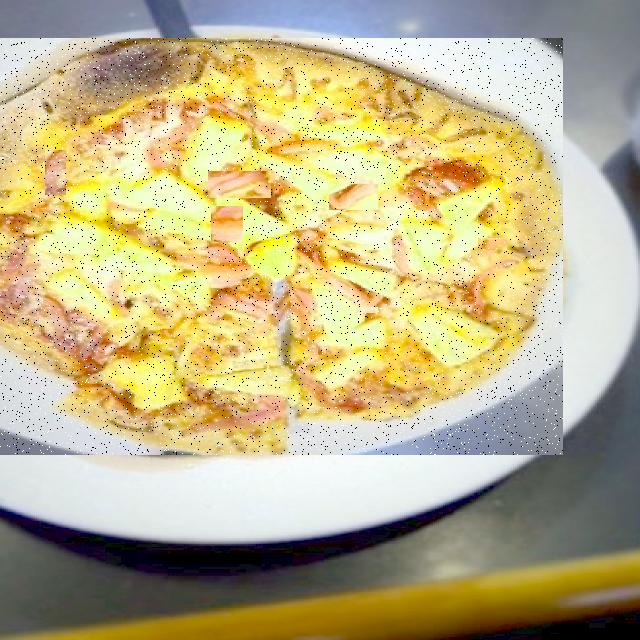Ham: (208, 171, 271, 198), (330, 184, 380, 210), (211, 206, 243, 242), (45, 150, 66, 195), (392, 210, 412, 254), (248, 69, 280, 94), (478, 238, 507, 250), (352, 307, 378, 313)
Pizza: (0, 38, 563, 455)
